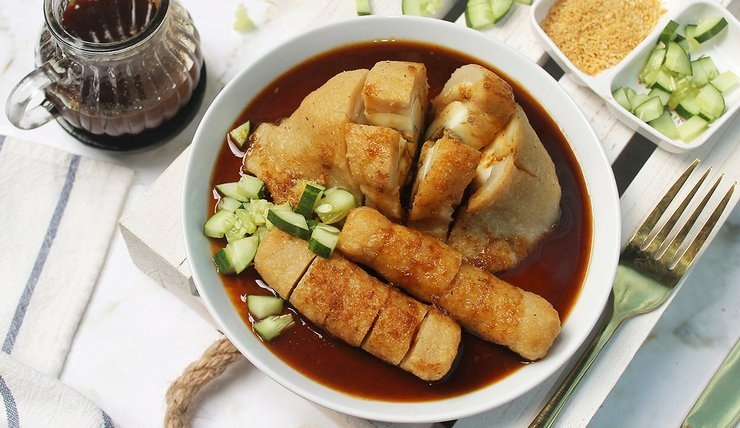pempek: (199, 52, 600, 384)
